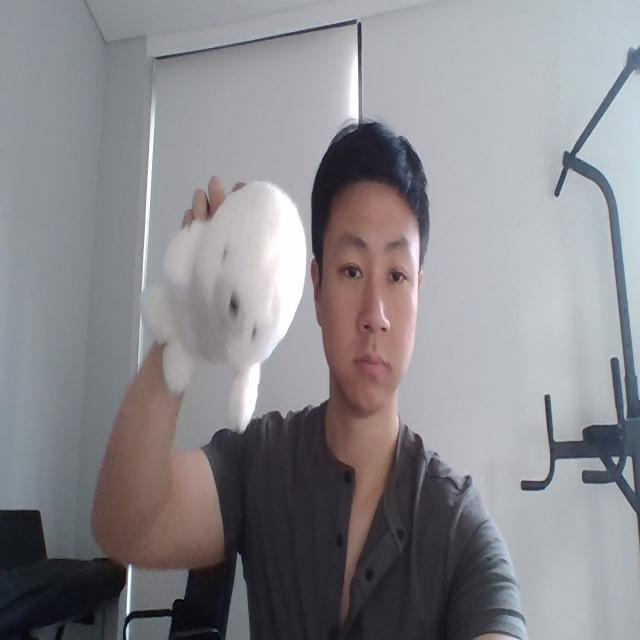seal_bb: (142, 179, 307, 436)
